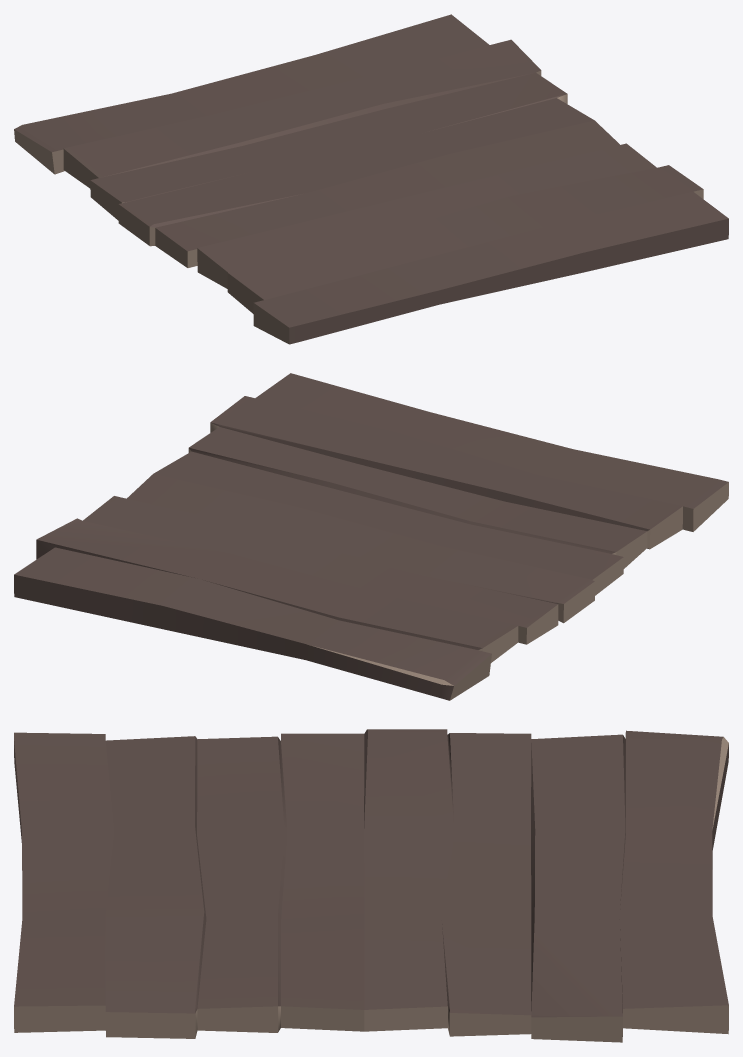
Rendered from Floor.fbx.
The picture shows the model from 3 angles, top to bottom: view 1: azimuth 30°, elevation 25°; view 2: azimuth 150°, elevation 25°; view 3: azimuth 270°, elevation 25°; orthographic projection. The views are drawn at different scales.
Parts seen in each view (by area): view 1: hut_floor.001; view 2: hut_floor.001; view 3: hut_floor.001.
Boxes of the visible parts, left/top/right/bottom form: hut_floor.001: left=14, top=14, right=728, bottom=344; hut_floor.001: left=14, top=373, right=728, bottom=700; hut_floor.001: left=14, top=729, right=728, bottom=1042.
Size of the model in its own units: 397 by 25.79 by 414.
1 material, 1 textured.
